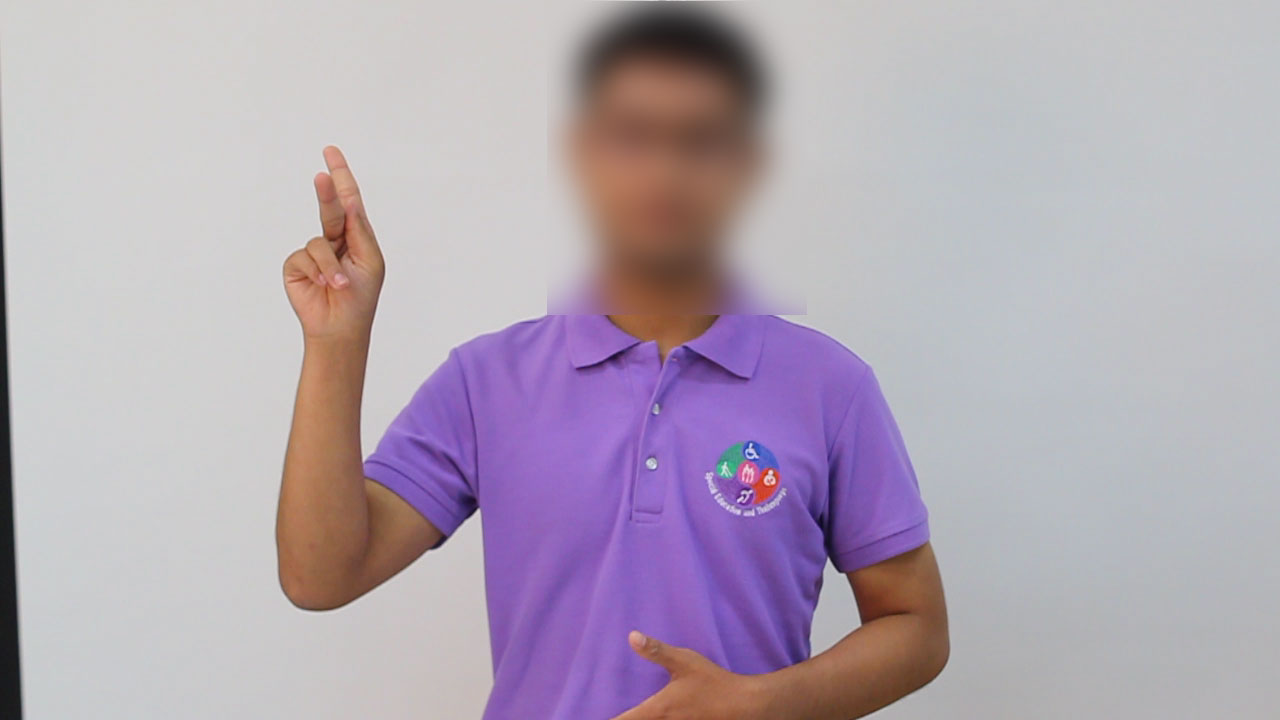ko: (227, 127, 413, 352)
